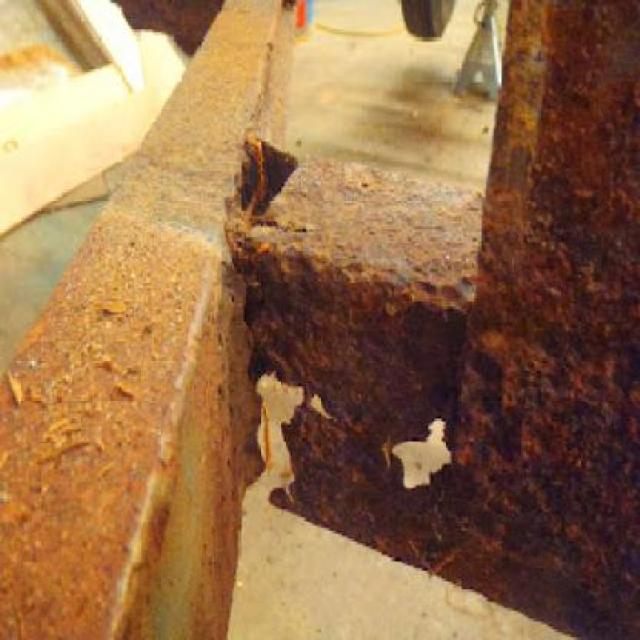defective: (10, 19, 640, 627)
